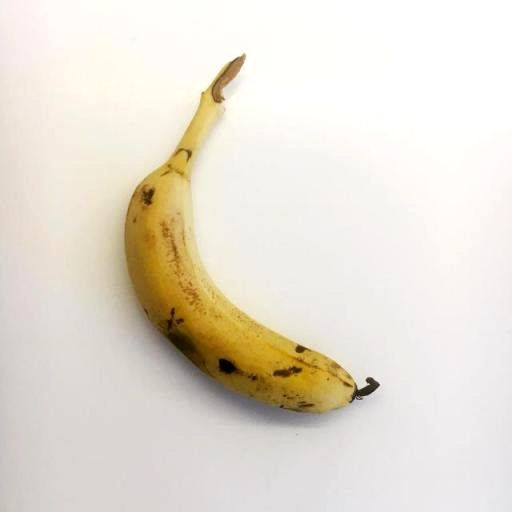fruit: (125, 55, 378, 412)
